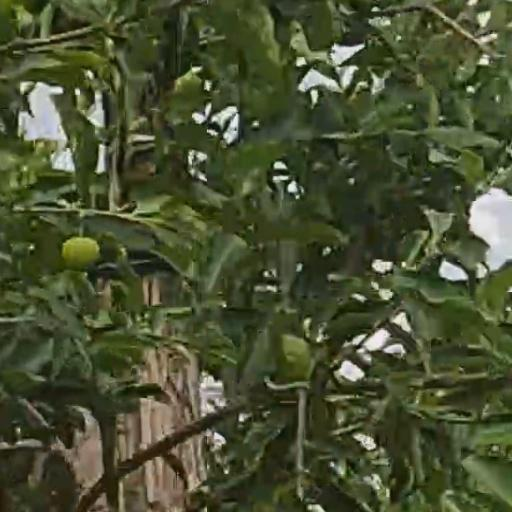acerola: (63, 239, 100, 269)
